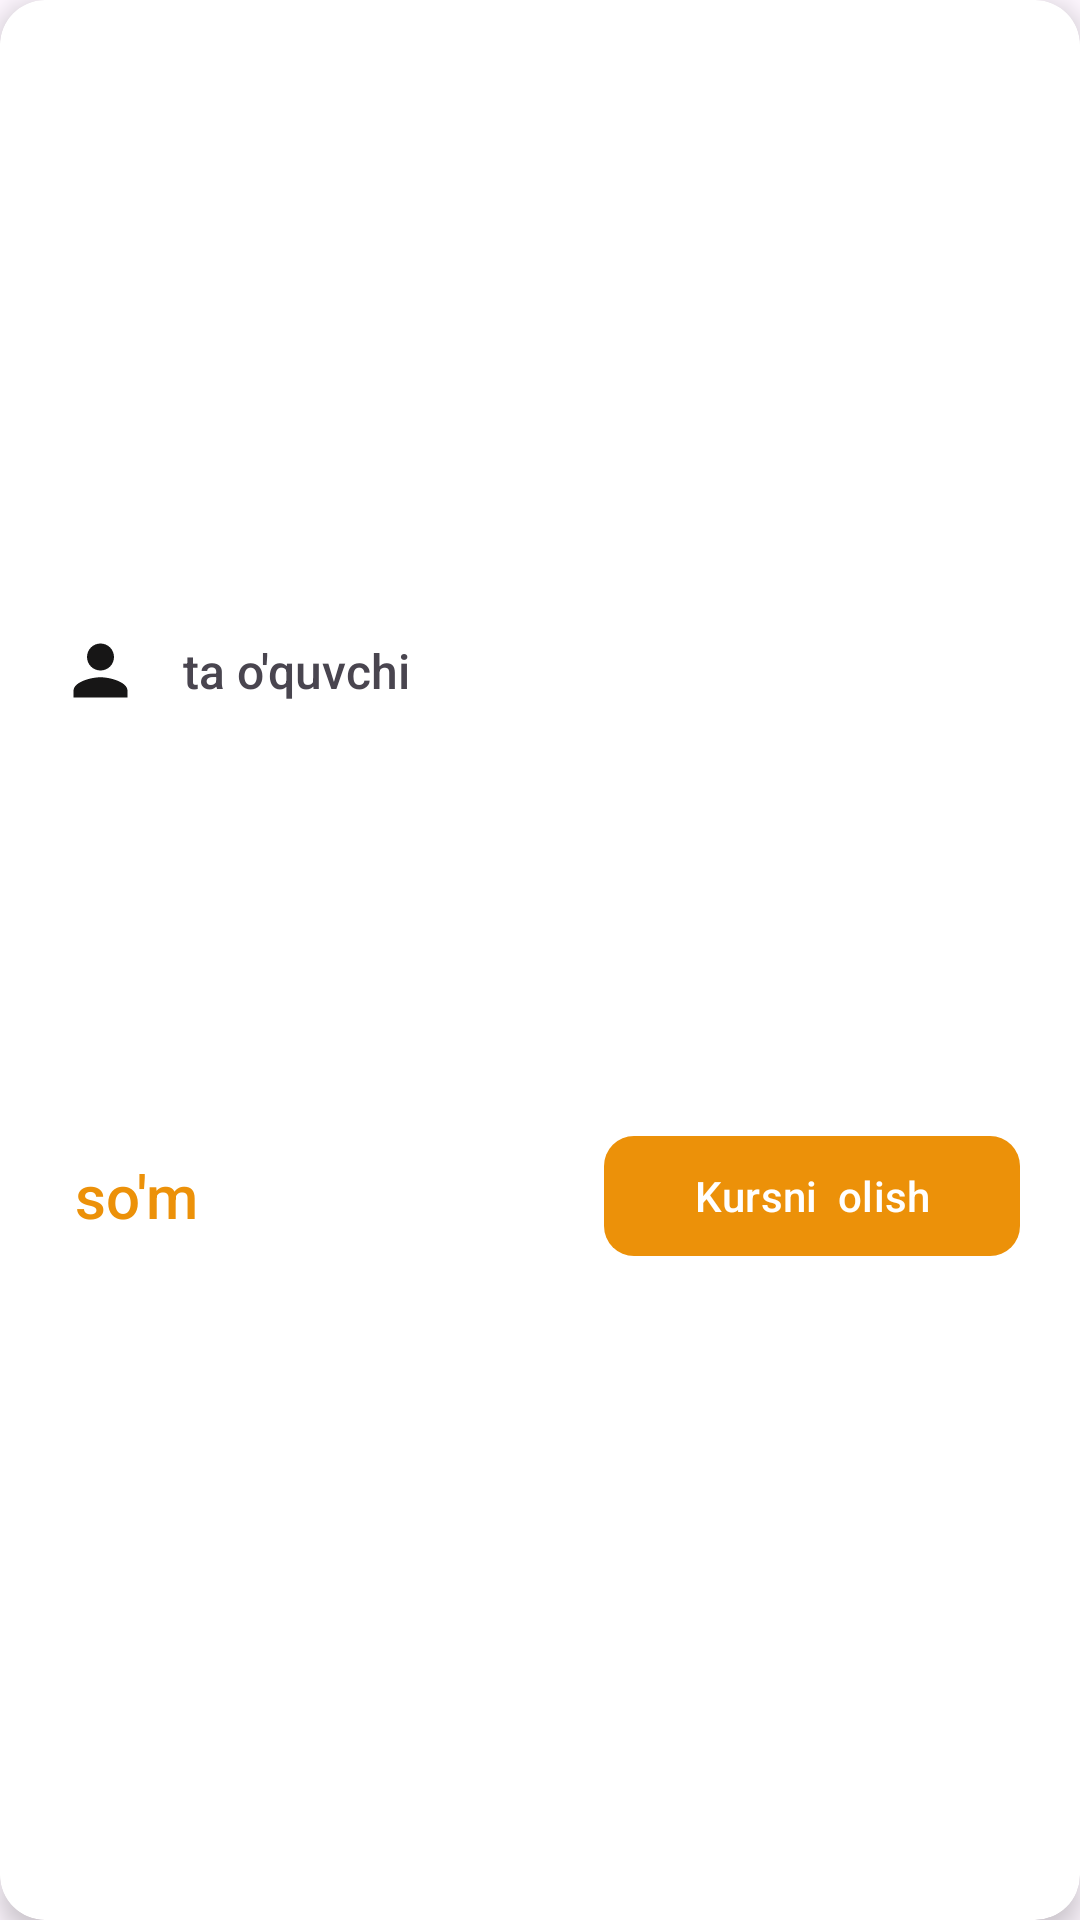

Icon bounding boxes for this 1080x1920 phone screenshot, format [x1, y1, x2, y2]:
person: [73, 643, 128, 698]
